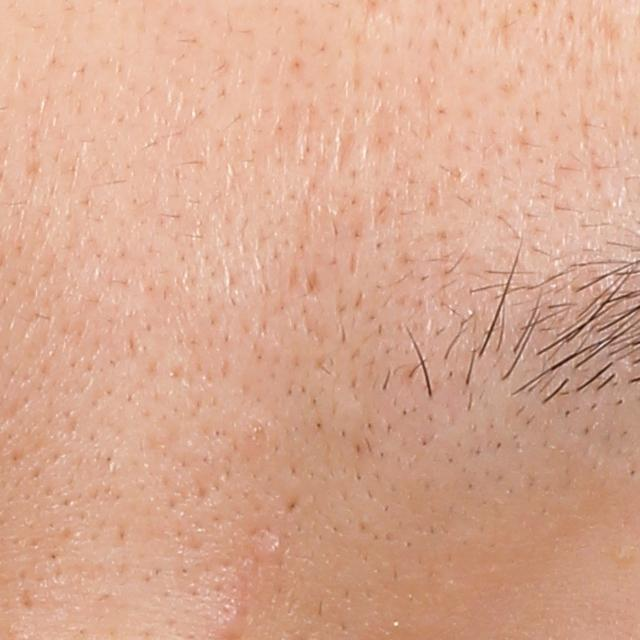atrophic_scar: (334, 116, 357, 174), (304, 270, 321, 302)
comedo: (261, 538, 287, 559)
